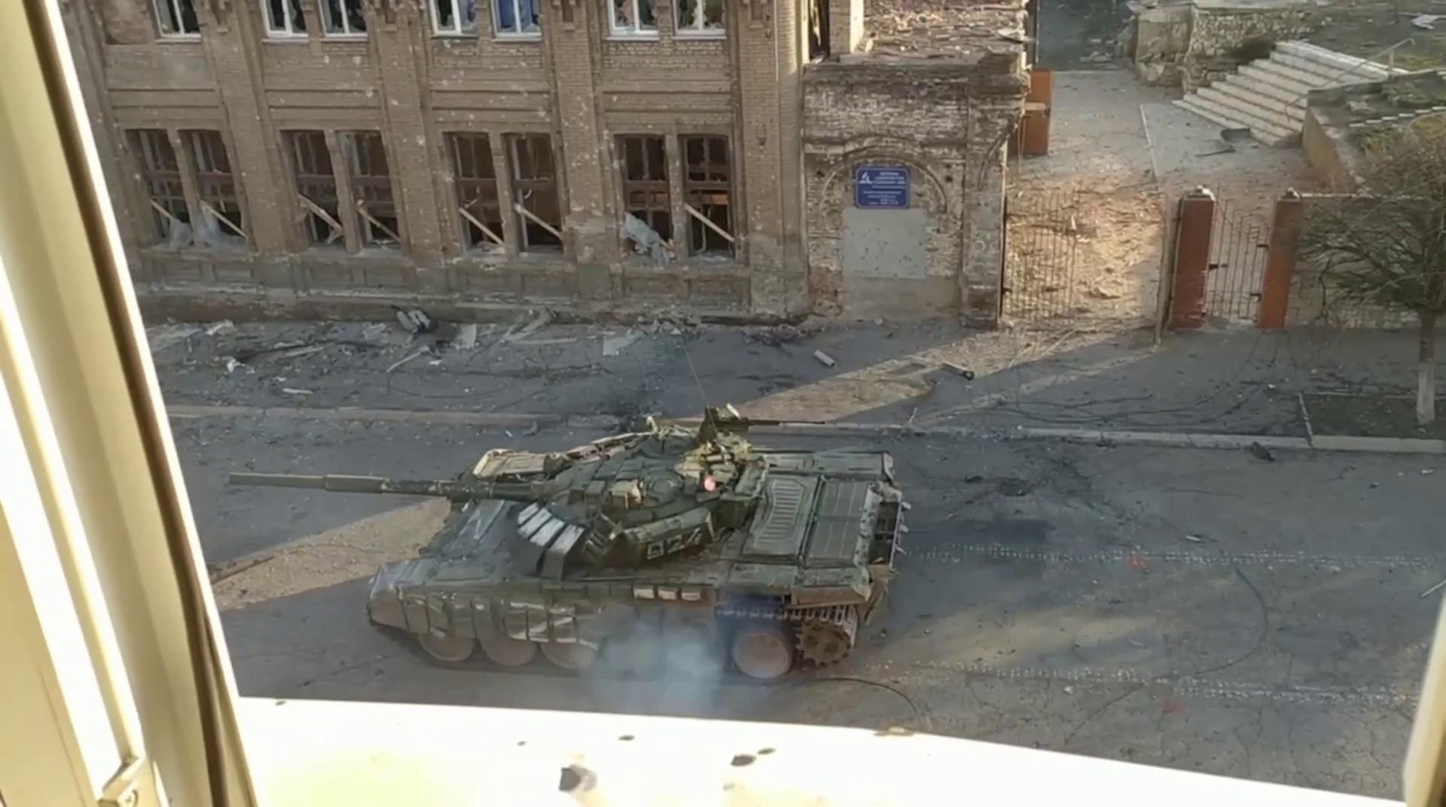tank: (224, 410, 909, 684)
